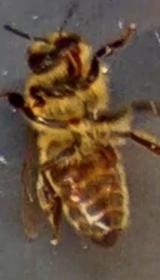varroa_mite: (92, 136, 126, 174)
